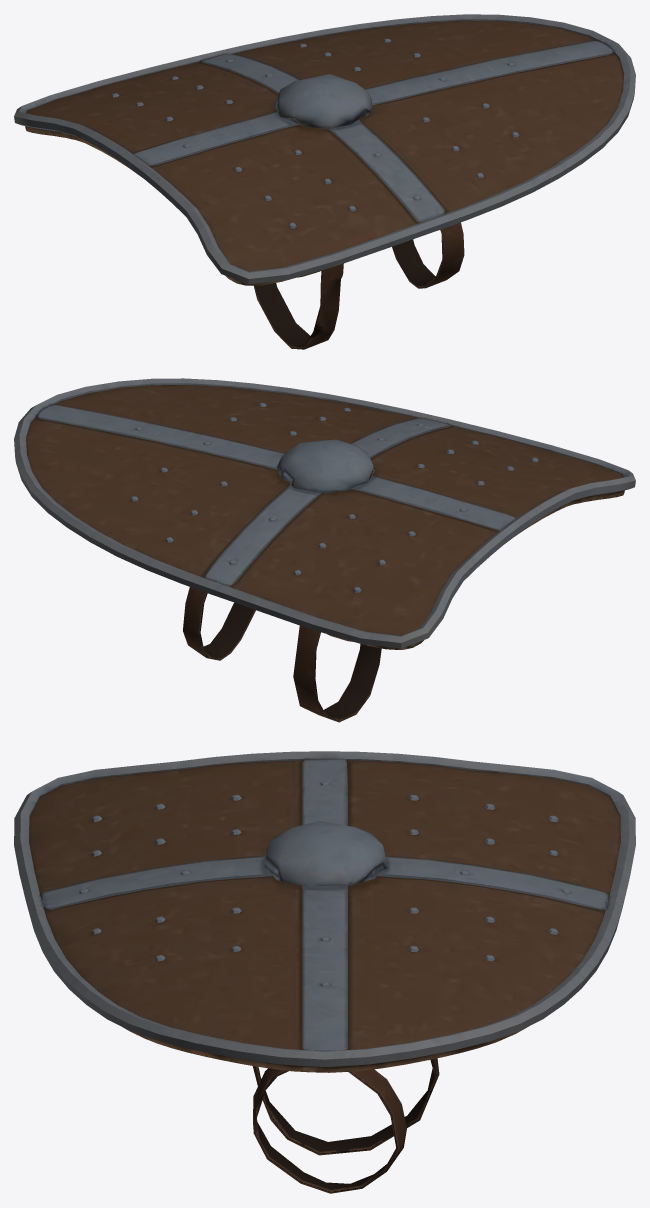
File: shield_brigandine.glb
The picture shows the model from 3 angles, top to bottom: view 1: azimuth 30°, elevation 25°; view 2: azimuth 150°, elevation 25°; view 3: azimuth 270°, elevation 25°; orthographic projection. The views are drawn at different scales.
Parts seen in each view (by area): view 1: shield; view 2: shield; view 3: shield.
Boxes of the visible parts, x1,y1,x2,y2 form: shield: [14, 14, 635, 349]; shield: [14, 378, 635, 722]; shield: [14, 751, 635, 1193].
Bounding box in the file's own units: 0.5869 × 0.2905 × 0.4906.
Materials: 1 (1 with a texture image).
